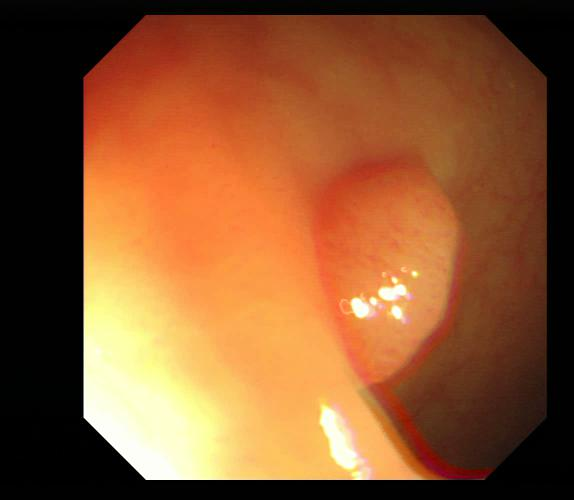polyp: (309, 152, 460, 398)
